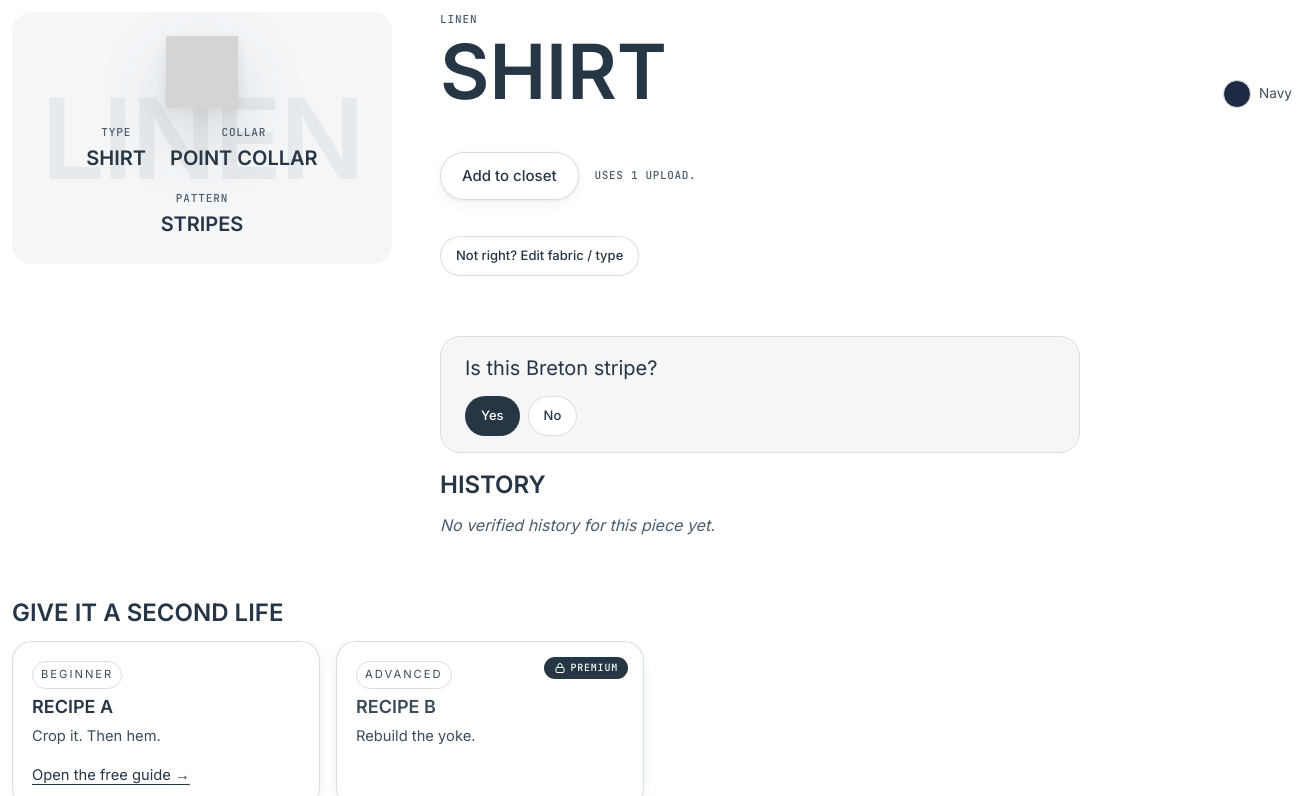
ResultView › the edit control corrects a confidently-wrong fabric from the fabric list
Click the button "Not right? Edit fabric / type" at (540, 256), box [440, 236, 639, 276]
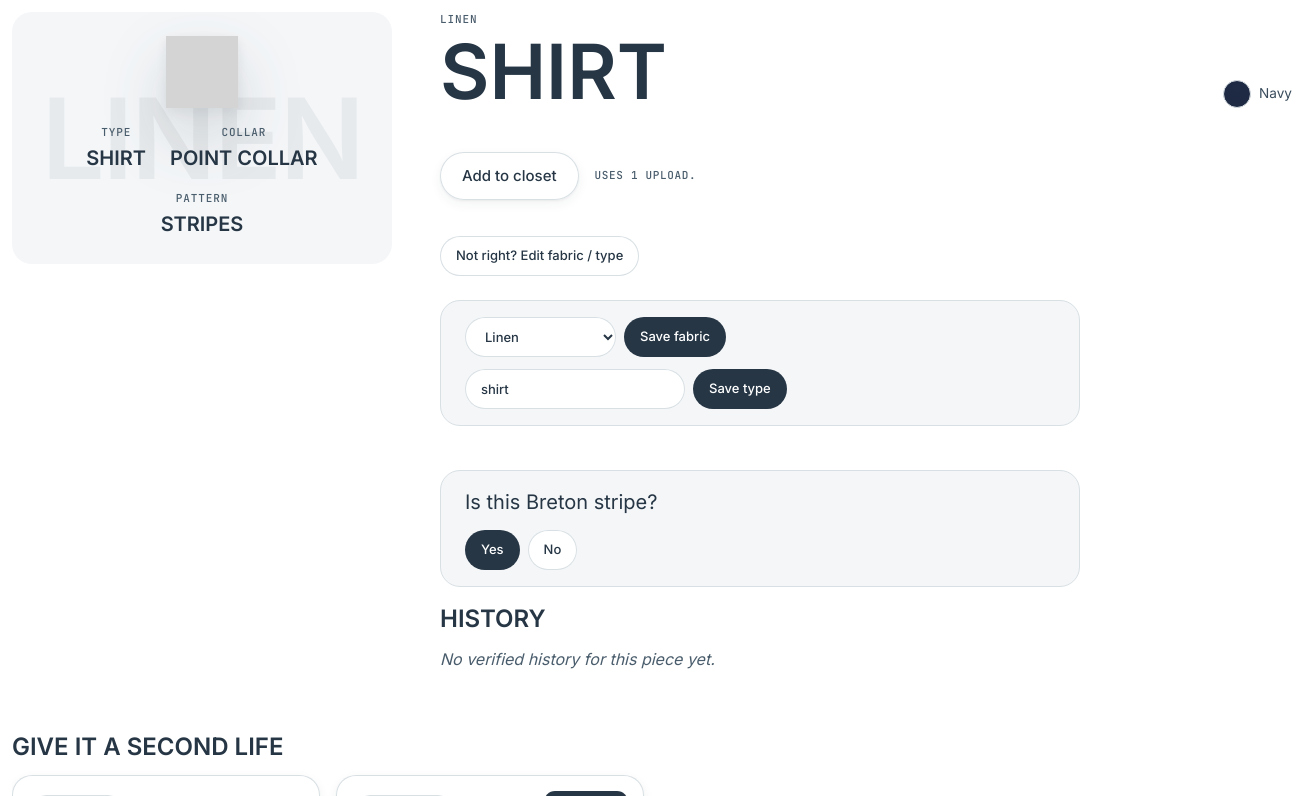
Select "Wool" in the dropdown named "Fabric" at (540, 337), box [465, 317, 616, 357]
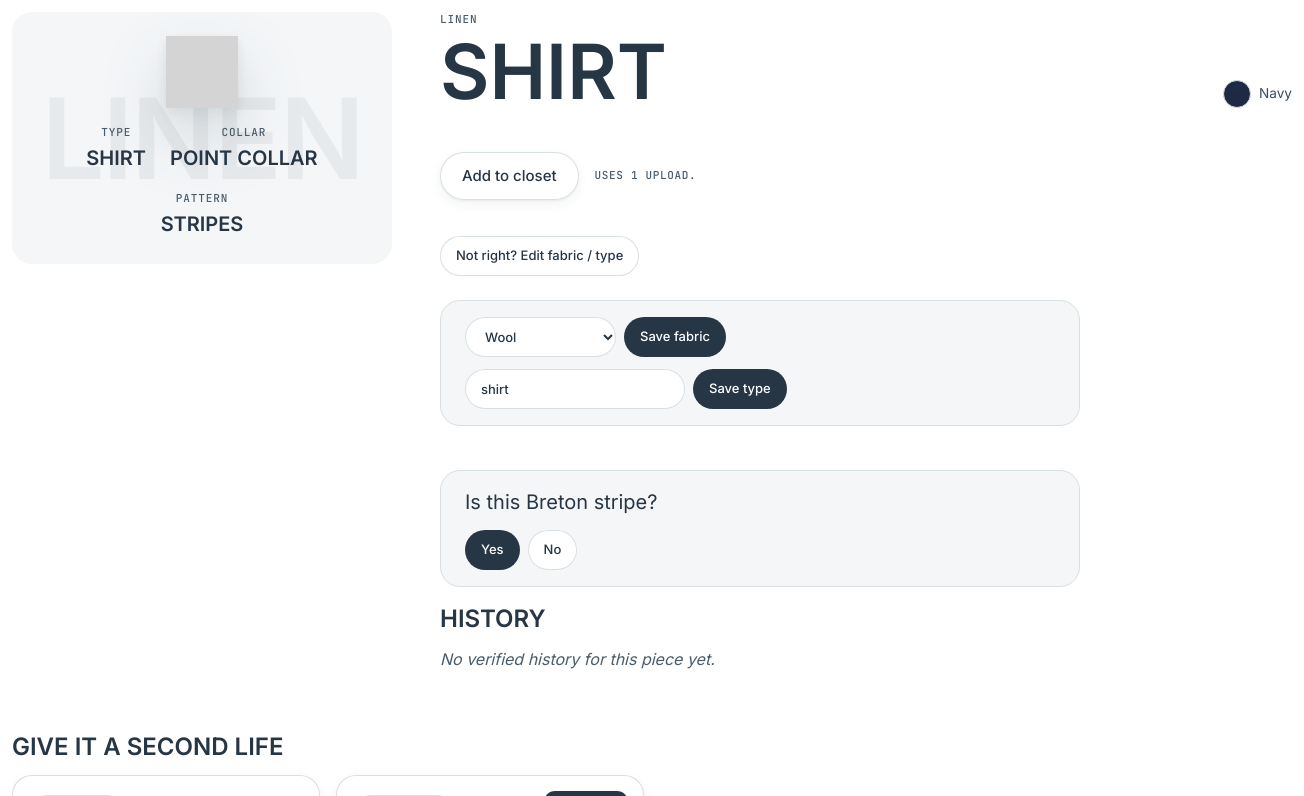
Click the button "Save fabric" at (675, 337), box [624, 317, 726, 357]
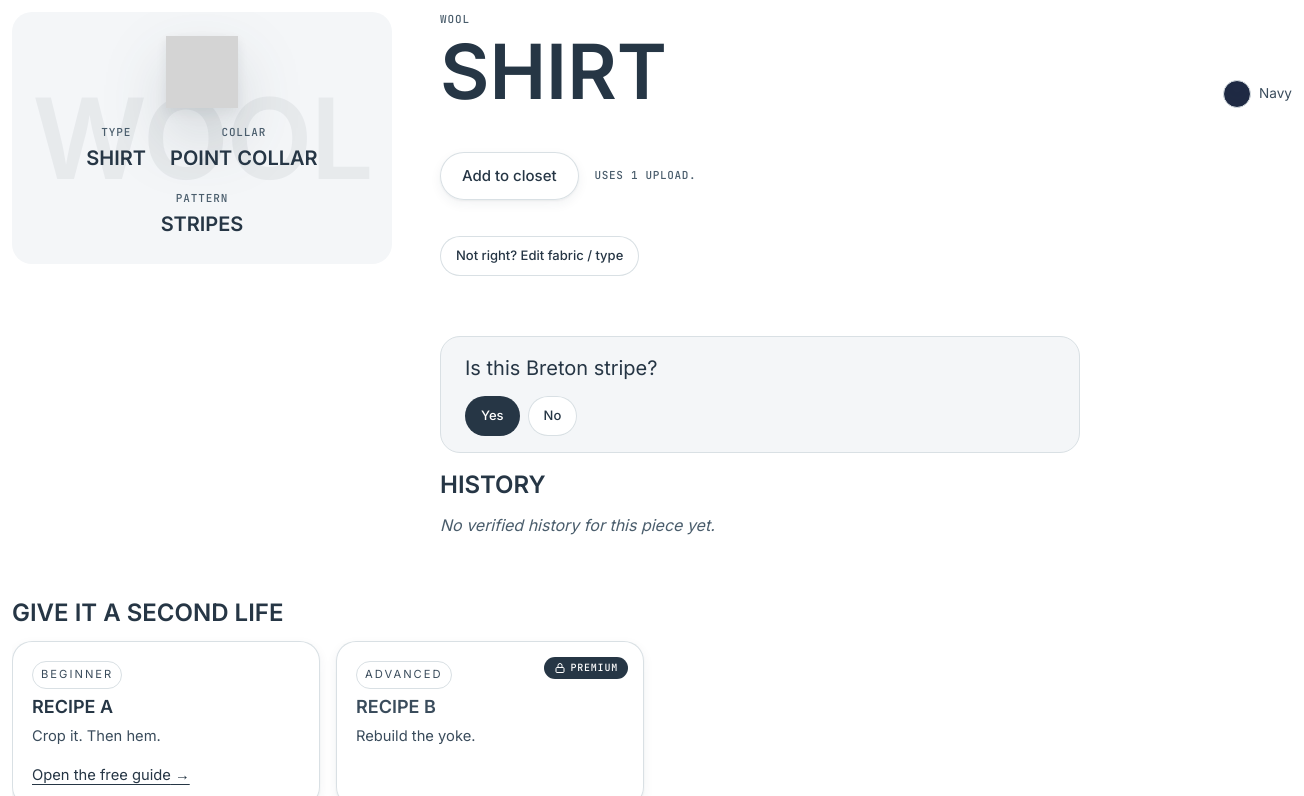
Expected: the text "Wool" is shown, [440, 12, 470, 26]
